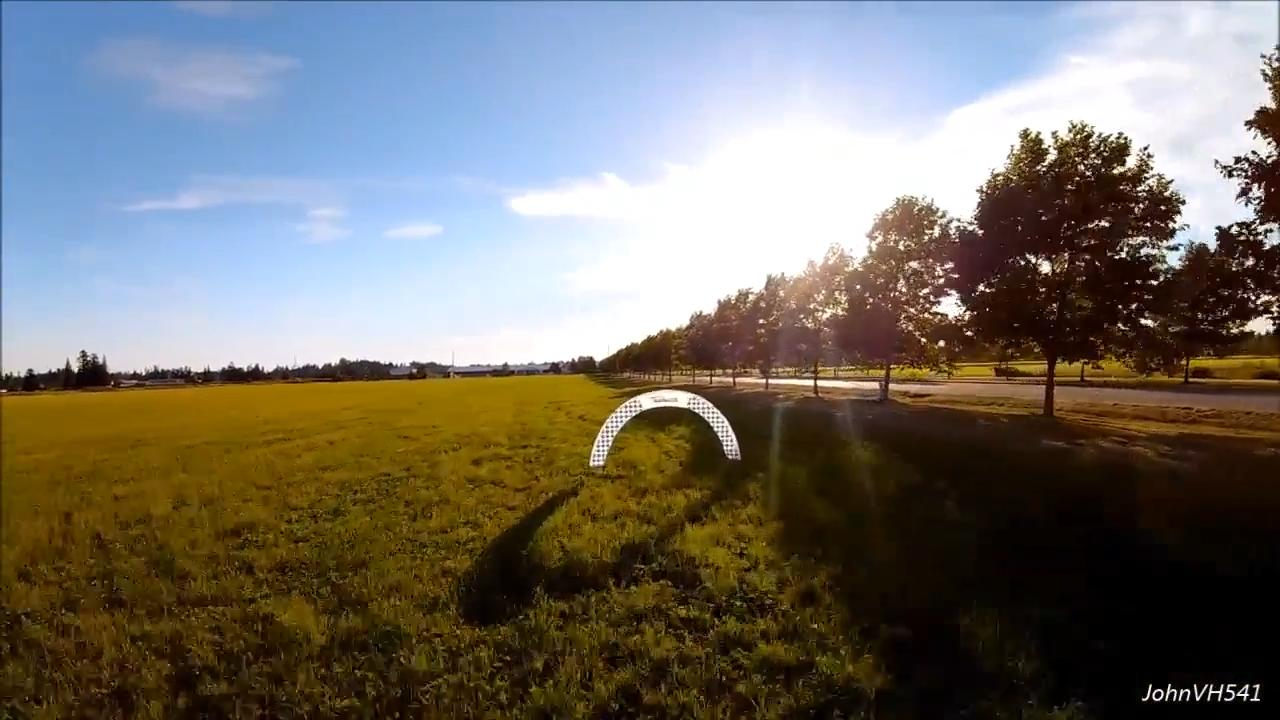gate: (586, 388, 741, 466)
